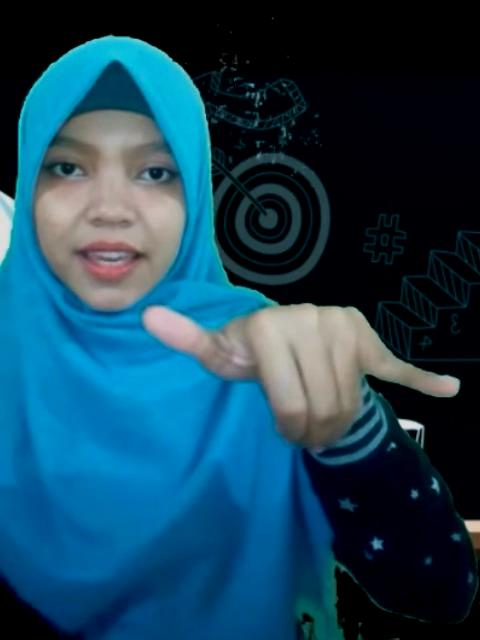Y: (142, 293, 462, 457)
